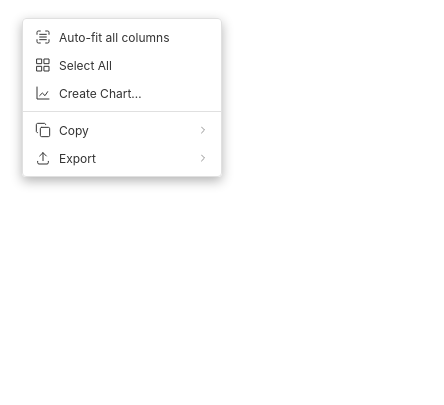
Test case: ExportMenu › only shows one submenu at a time
This screenshot has width=444, height=405.
Hover over the element with test id "copy-submenu-container" at [122, 130], box [23,116,221,144]
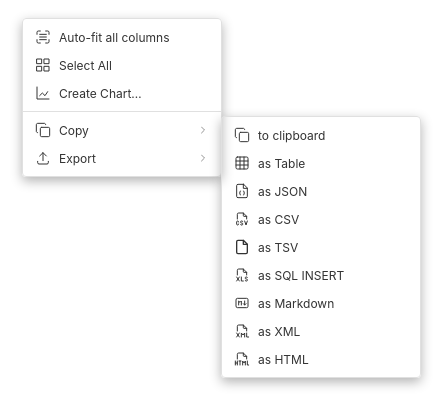
expect the element with test id "copy-submenu" is shown: met, box [221,116,421,378]
Move the pointer off the element with test id "copy-submenu-container", box [23,116,221,144]
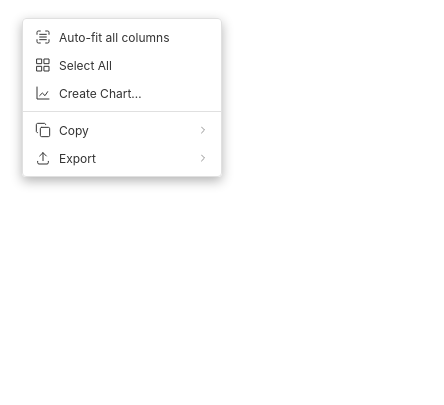
Hover over the element with test id "export-submenu-container" showing "Export" at [122, 158], box [23,144,221,172]
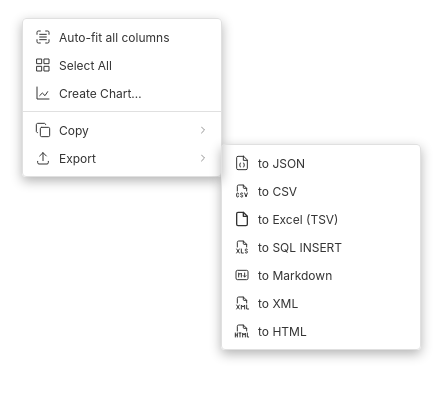
expect the element with test id "export-submenu" is shown: met, box [221,144,421,350]
